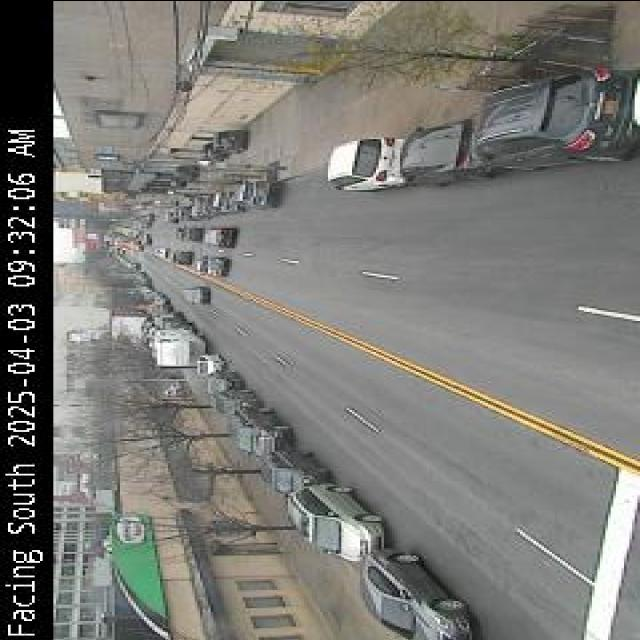parkedCars: (329, 57, 640, 191), (262, 460, 468, 630), (198, 362, 280, 454), (156, 177, 278, 223)
